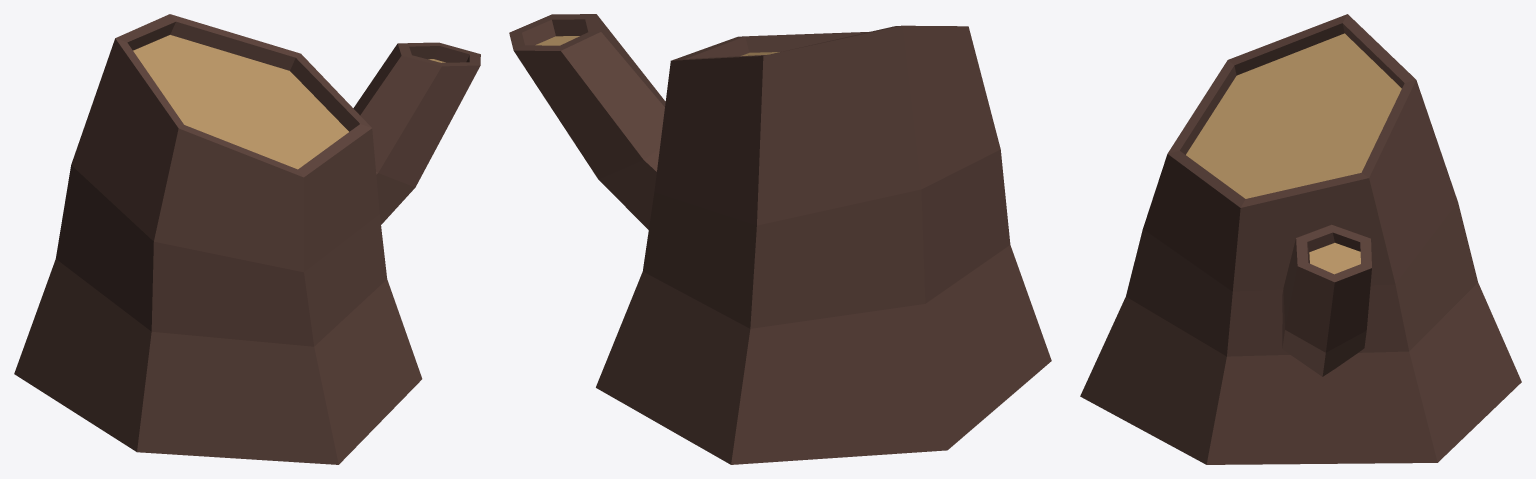
Rendered from TreeTrunk(2).fbx.
3 views of the same model, side by side, from view 1: azimuth 30°, elevation 25°; view 2: azimuth 150°, elevation 25°; view 3: azimuth 270°, elevation 25° (orthographic). The views are drawn at different scales.
Visible parts, largest first — view 1: TreeTrunk(2); view 2: TreeTrunk(2); view 3: TreeTrunk(2).
Part boxes in pixels (box(x1,y1,x2,y2)): TreeTrunk(2): box(14, 14, 480, 464); TreeTrunk(2): box(509, 14, 1051, 464); TreeTrunk(2): box(1080, 14, 1521, 464).
Bounding box in the file's own units: 1.25 × 0.9664 × 1.14.
